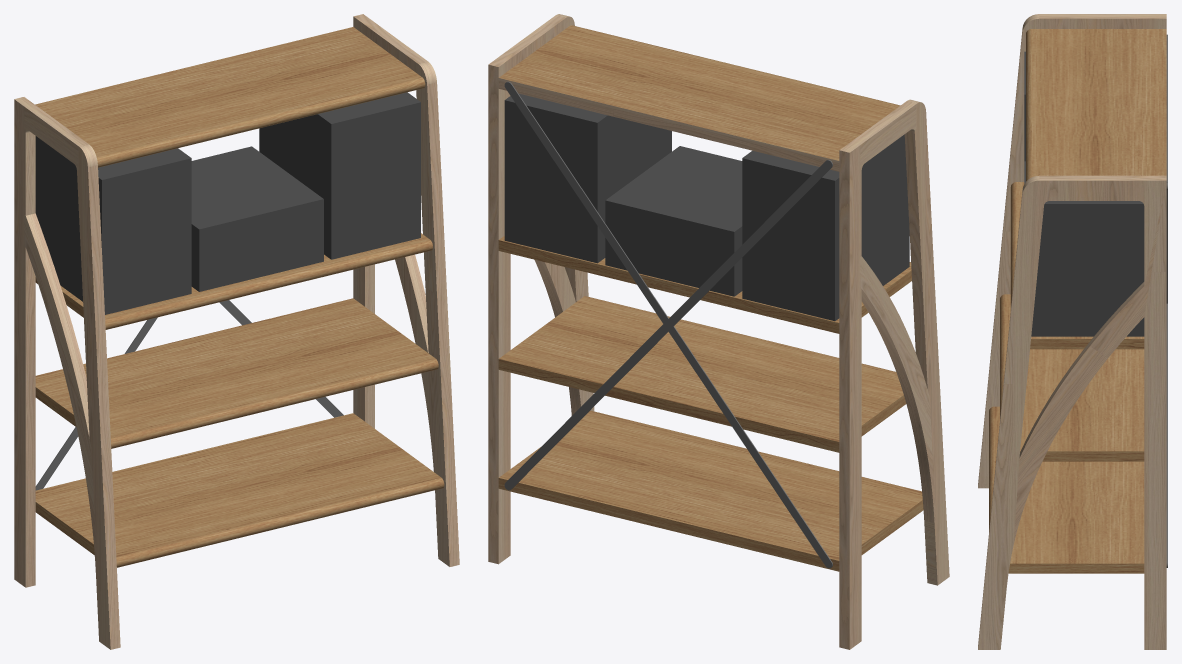
The model's file is Etagere_Hi-Fi_Lucie_lite.glb.
3 views of the same model, side by side, from view 1: azimuth 30°, elevation 25°; view 2: azimuth 150°, elevation 25°; view 3: azimuth 270°, elevation 25° (orthographic). The views are drawn at different scales.
Visible parts, largest first — view 1: Etagère_musique-1, Radio-1; view 2: Etagère_musique-1, Radio-1; view 3: Etagère_musique-1, Radio-1.
Part boxes in pixels (<box>): Etagère_musique-1: <box>14,14,459,649</box>; Radio-1: <box>35,92,420,314</box>; Etagère_musique-1: <box>488,14,949,649</box>; Radio-1: <box>504,94,909,321</box>; Etagère_musique-1: <box>978,14,1167,649</box>; Radio-1: <box>1024,51,1144,336</box>.
Size of the model in its own units: 0.7 by 0.92 by 0.337.
Materials: 4 (2 with a texture image).
